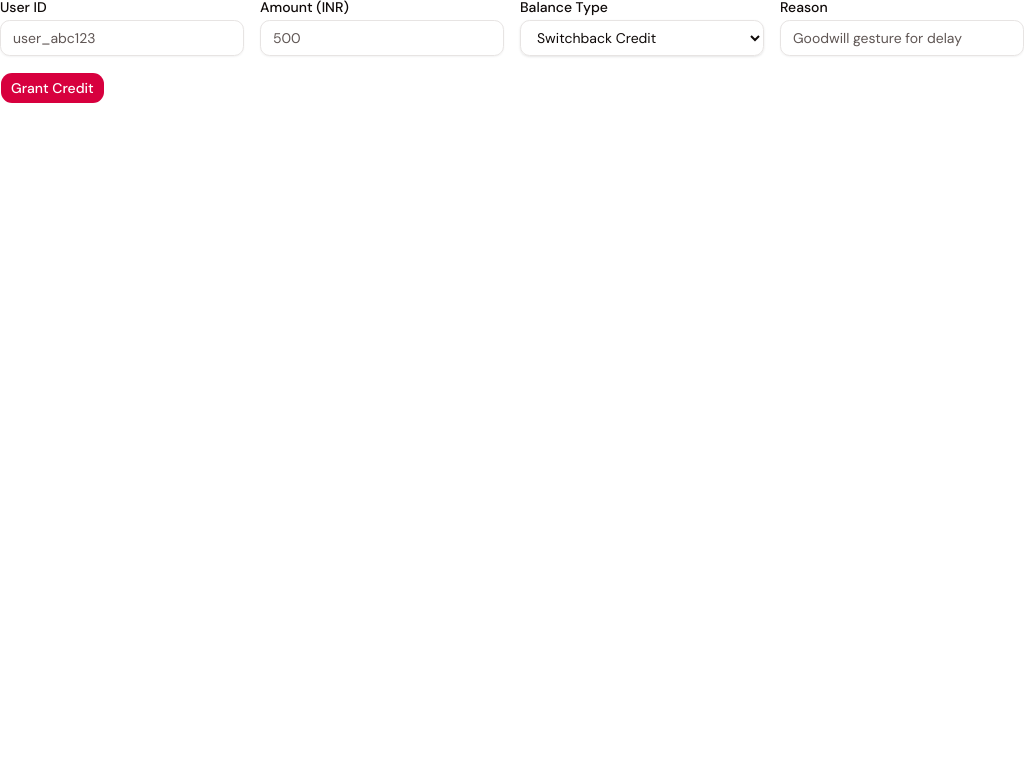
Test: GrantCreditForm — A4 money confirm before granting credit › the confirm names the Refund balance bucket (no expiry) when that bucket is chosen
The image size is (1024, 768).
Type "u_seed_customer_loyalty" into the field labelled "User ID" at (122, 38), box x1=0 y1=20 x2=244 y2=56
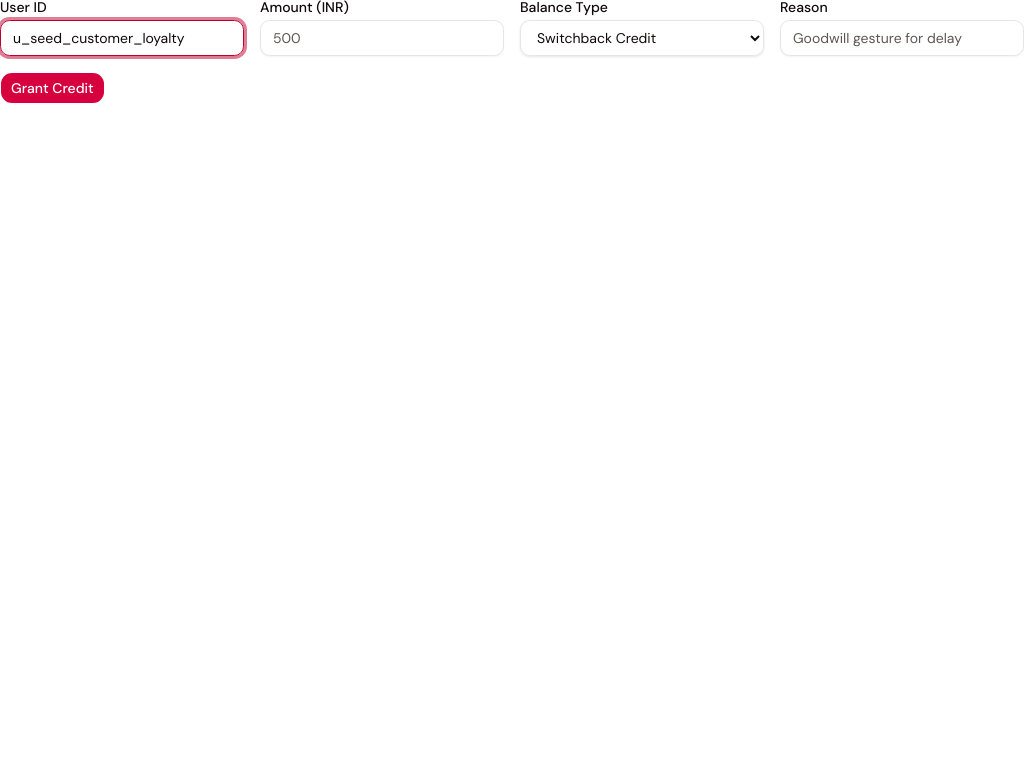
Type "750" into the number field labelled "Amount (INR)" at (382, 38), box x1=260 y1=20 x2=504 y2=56
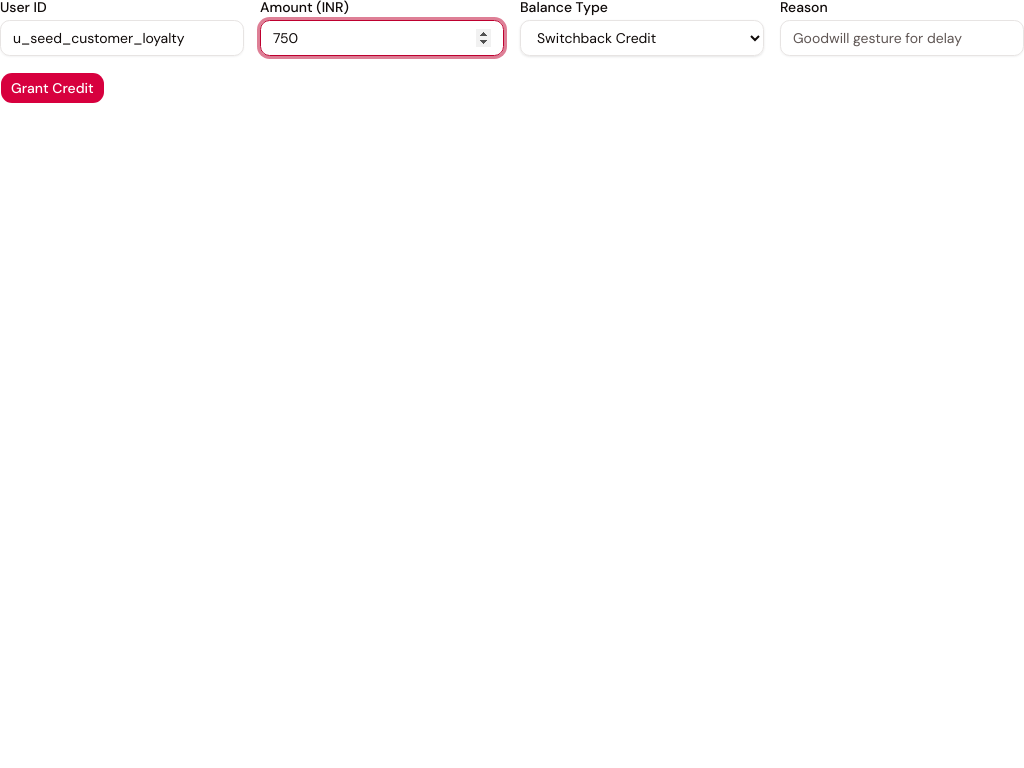
Select "Refund Balance" in the dropdown labelled "Balance Type" at (642, 38), box x1=520 y1=20 x2=764 y2=56
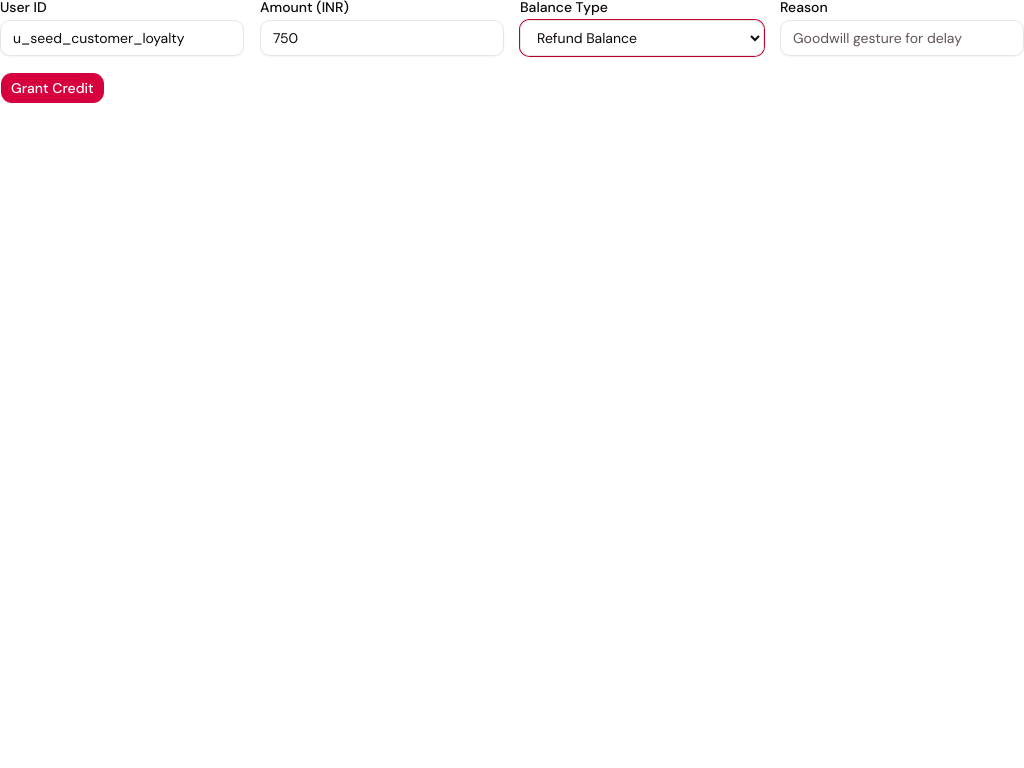
Type "goodwill" into the field labelled "Reason" at (902, 38), box x1=780 y1=20 x2=1023 y2=56
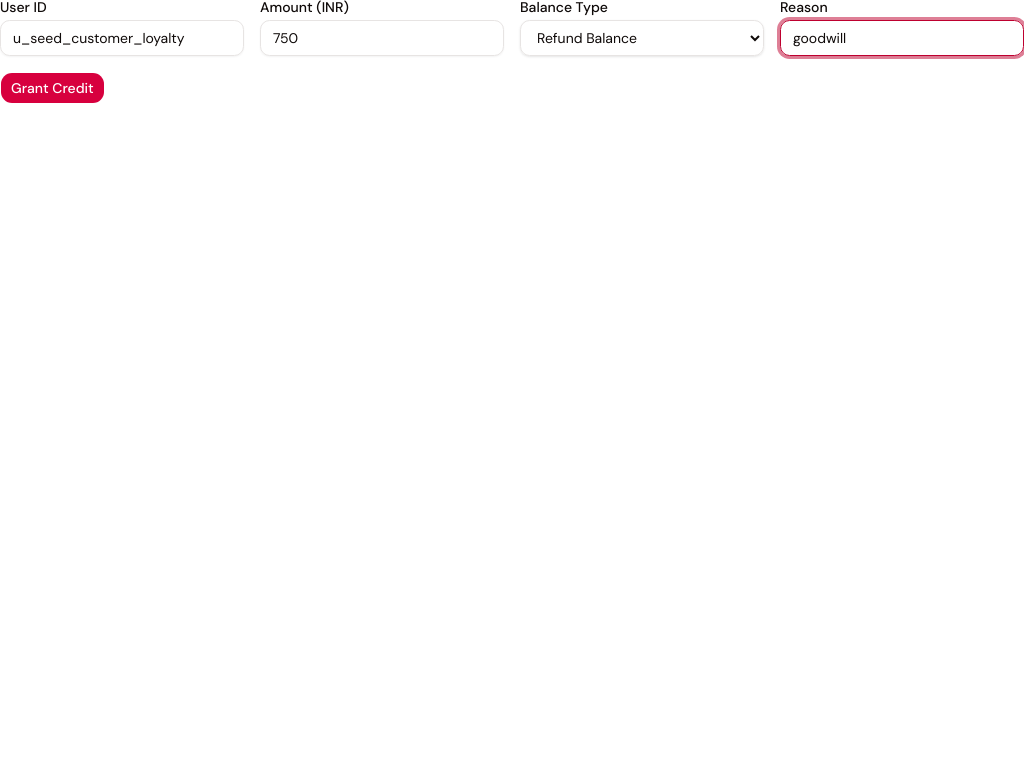
Click the button "Grant Credit" at (52, 88), box x1=0 y1=72 x2=105 y2=104
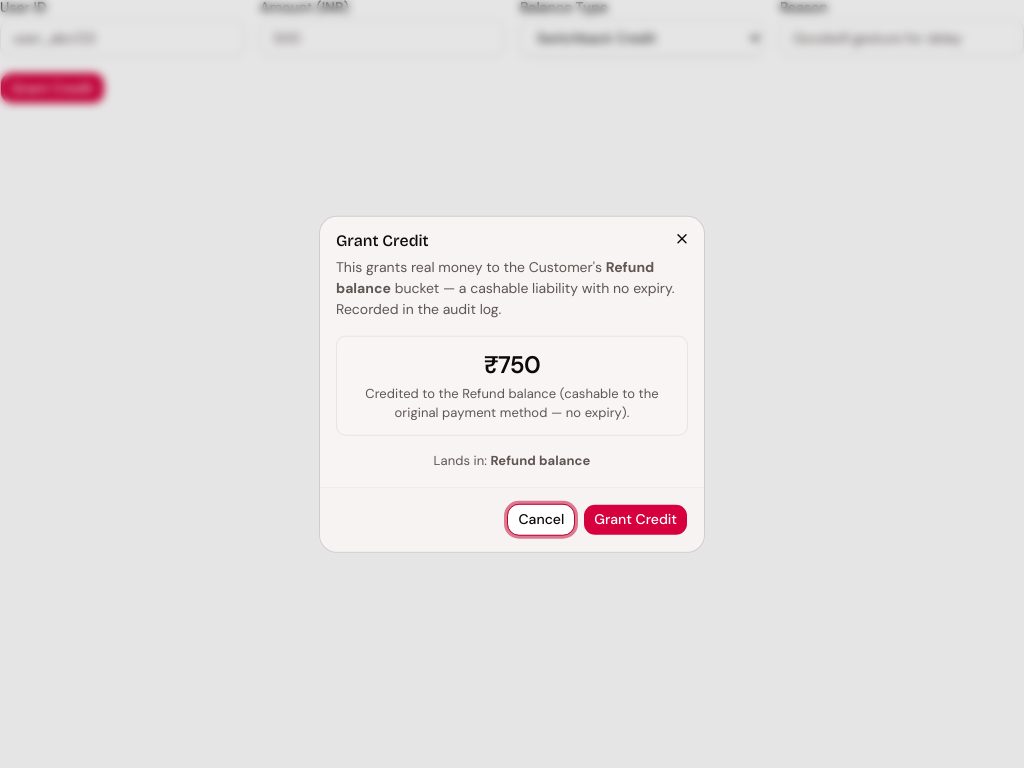
Now the dialog with test id "grant-credit-confirm" shows "Refund balance", box x1=336 y1=258 x2=654 y2=297
